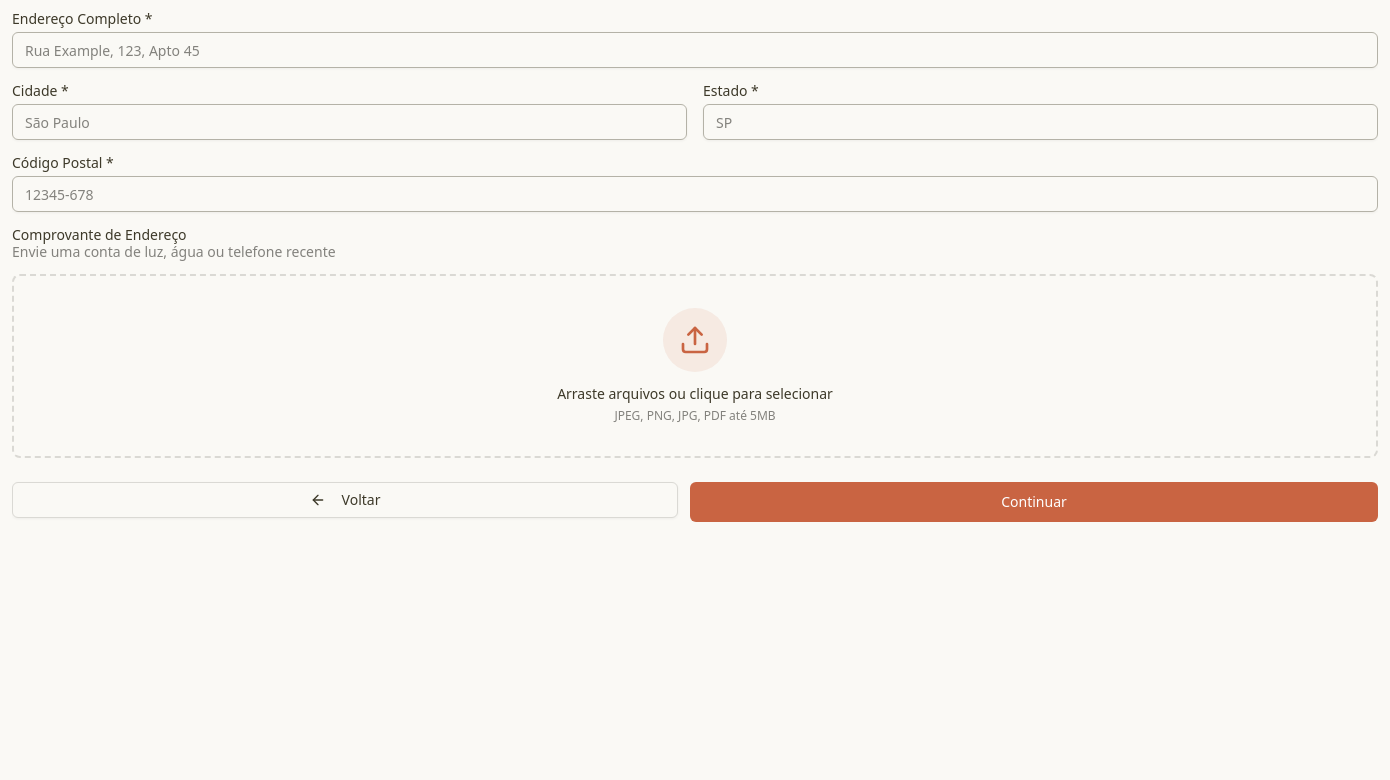
Test: AddressStep › should display validation errors for empty fields
The width and height of the screenshot is (1390, 780).
Click the button "Continuar" at {"x": 1034, "y": 502}, box [690,482,1378,522]
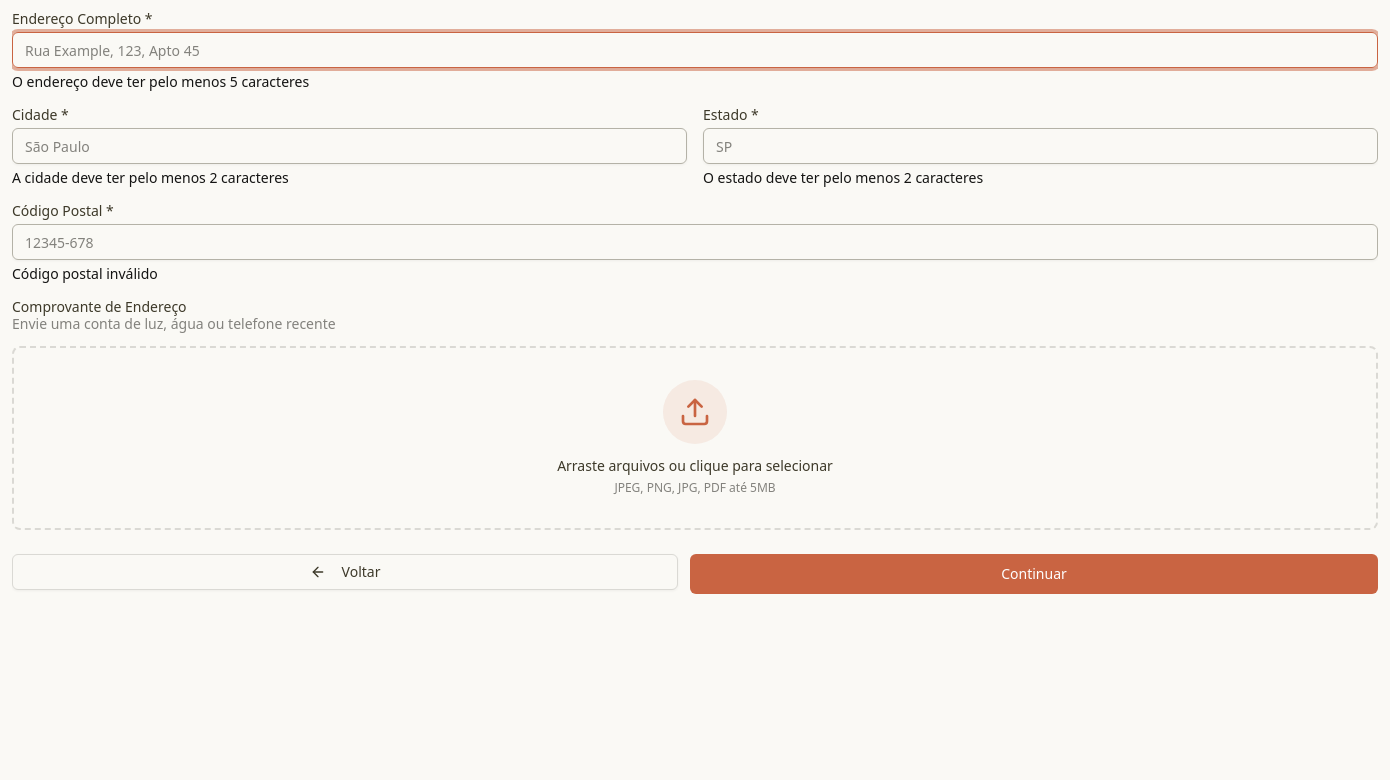
Now the text "O endereço deve ter pelo menos 5 caracteres" is shown, box [12,72,309,91]
Now the text "A cidade deve ter pelo menos 2 caracteres" is shown, box [12,168,289,187]
Now the text "O estado deve ter pelo menos 2 caracteres" is shown, box [703,168,983,187]
